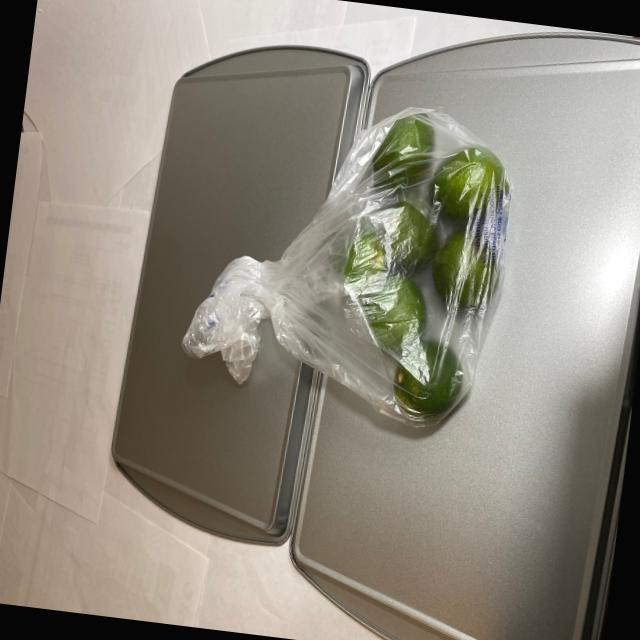lemon: (322, 104, 514, 428)
